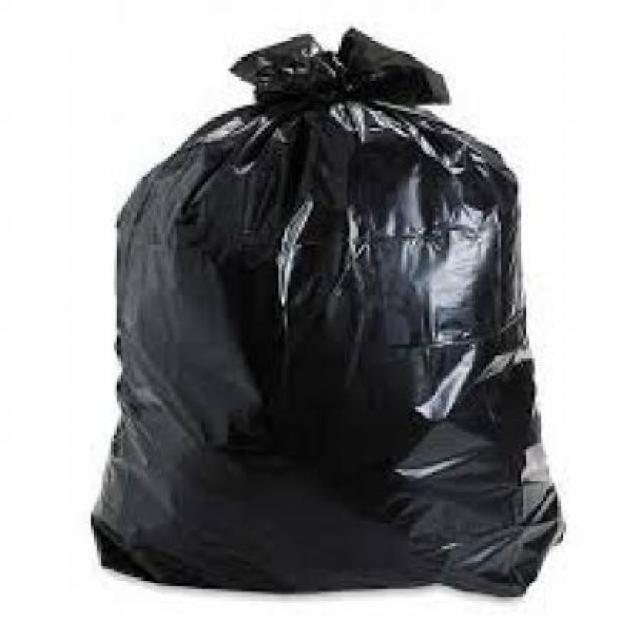garbage: (91, 17, 568, 614)
